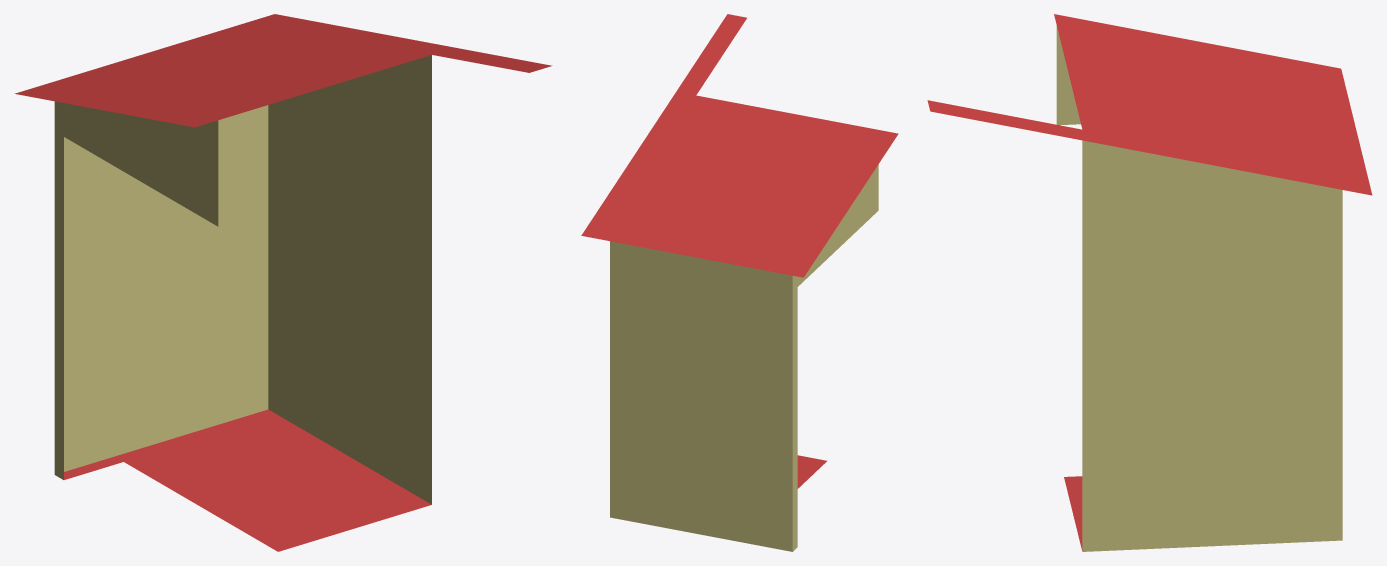
3 renders of one model, left to right at view 1: azimuth 30°, elevation 25°; view 2: azimuth 150°, elevation 25°; view 3: azimuth 270°, elevation 25°, orthographic. The views are drawn at different scales.
Bounding box in the file's own units: 6.38 × 8.19 × 9.32.
